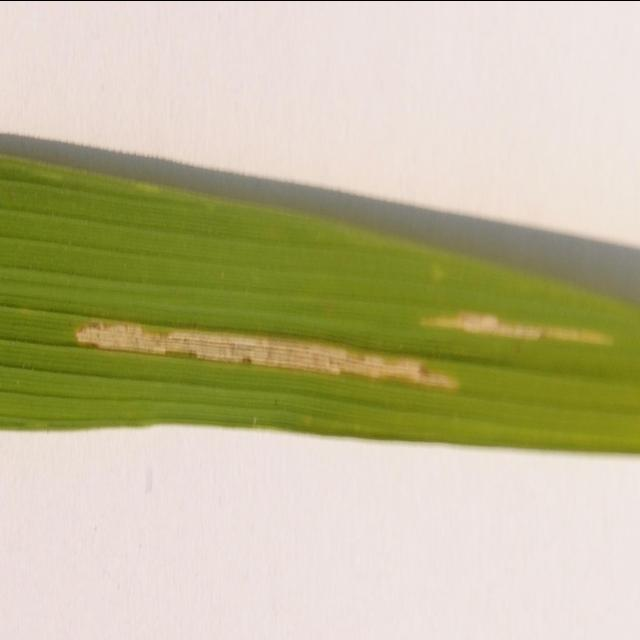Bacterial leaf blight: (68, 314, 470, 405), (415, 299, 624, 356)
